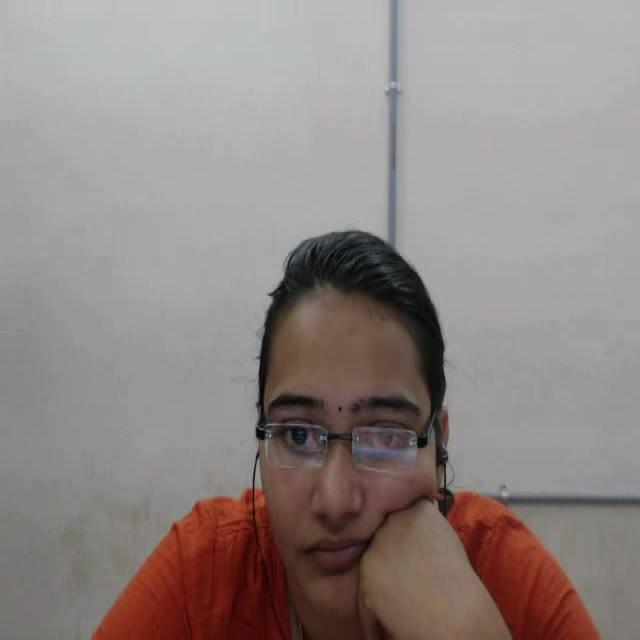Bored: (218, 206, 474, 640)
